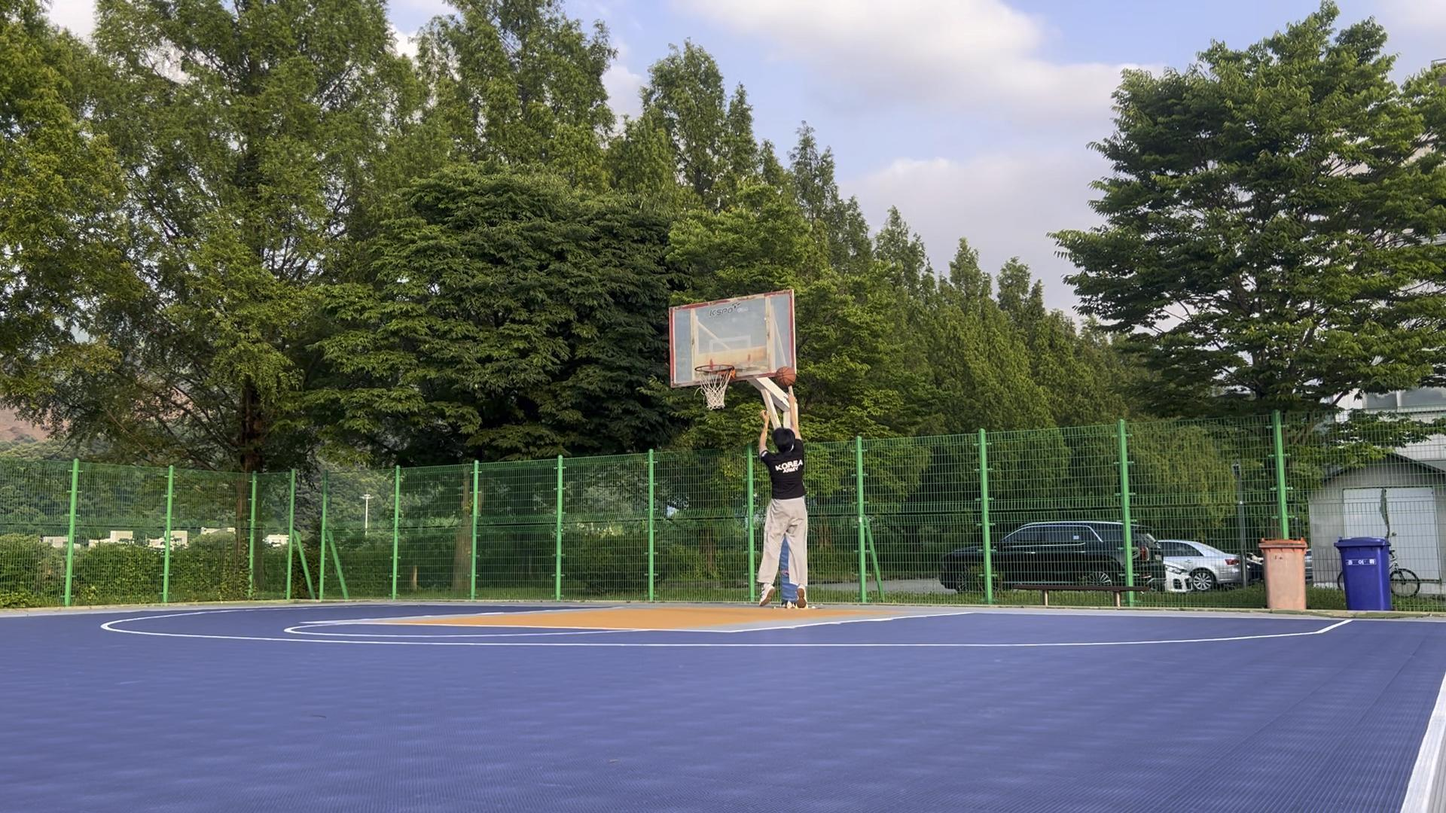ball: (774, 365, 797, 389)
human: (754, 388, 809, 610)
rim: (694, 364, 735, 411)
